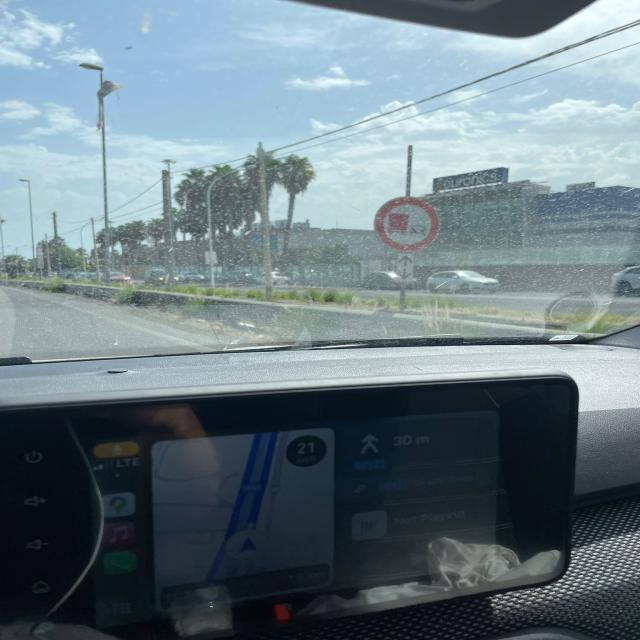forb_overtake_trucks: (375, 196, 440, 252)
